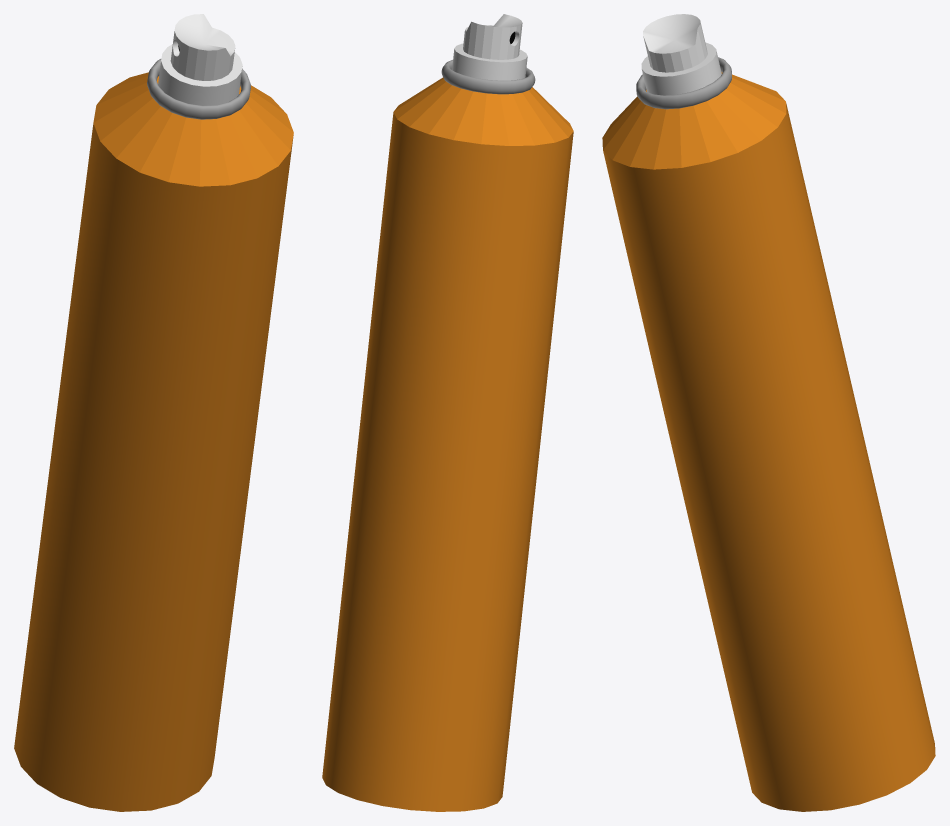
File: spray.fbx
3 views of the same model, side by side, from view 1: azimuth 30°, elevation 25°; view 2: azimuth 150°, elevation 25°; view 3: azimuth 270°, elevation 25° (orthographic). The views are drawn at different scales.
Visible parts, largest first — view 1: pCylinder6; view 2: pCylinder6; view 3: pCylinder6.
Boxes of the visible parts, bbox=[...] form: pCylinder6: bbox=[14, 14, 293, 811]; pCylinder6: bbox=[322, 14, 573, 811]; pCylinder6: bbox=[602, 14, 935, 811].
Size of the model in its own units: 1.65 by 7.4 by 2.93.
